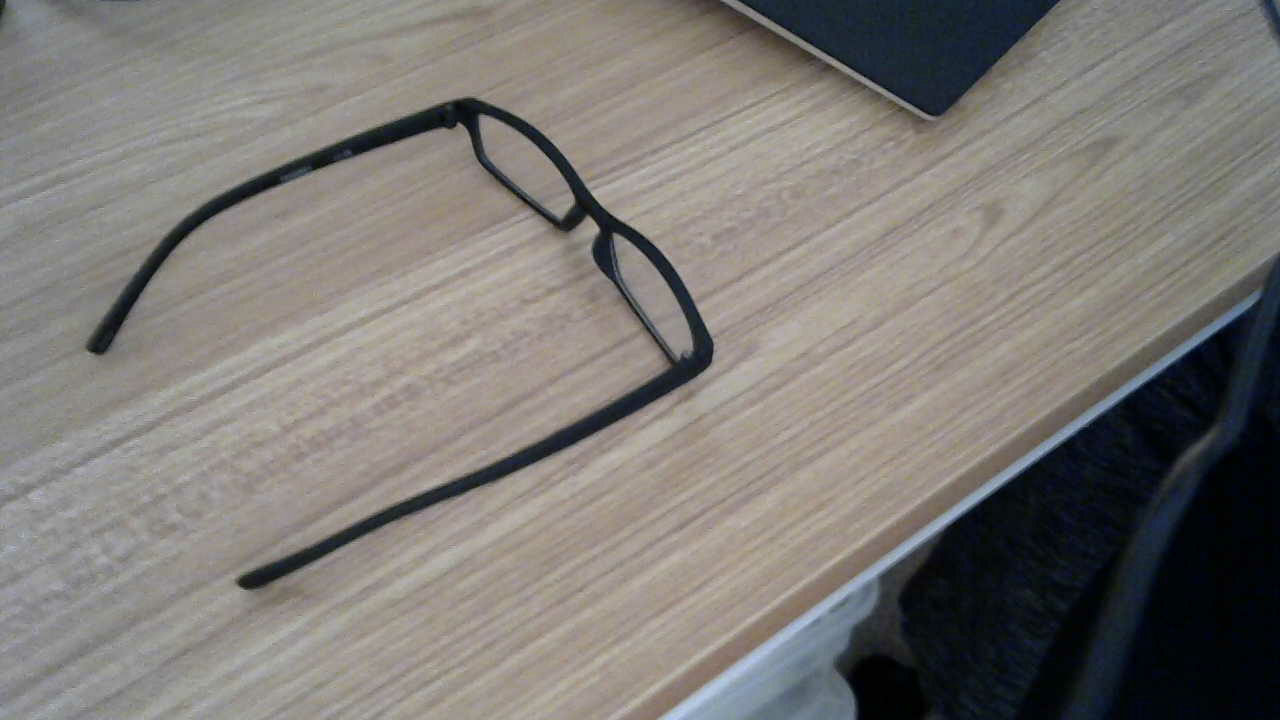Glasses: (296, 66, 727, 565)
